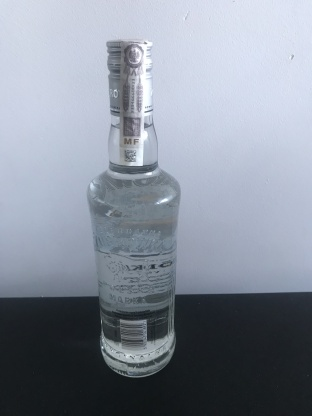nakretka: (104, 37, 156, 118)
